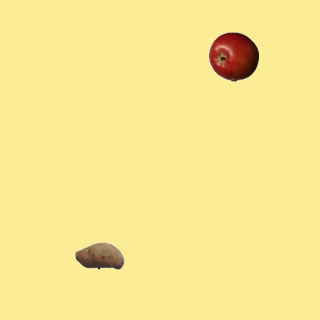Apple Braeburn: (208, 31, 258, 81)
Potato Sweet: (74, 230, 124, 280)
